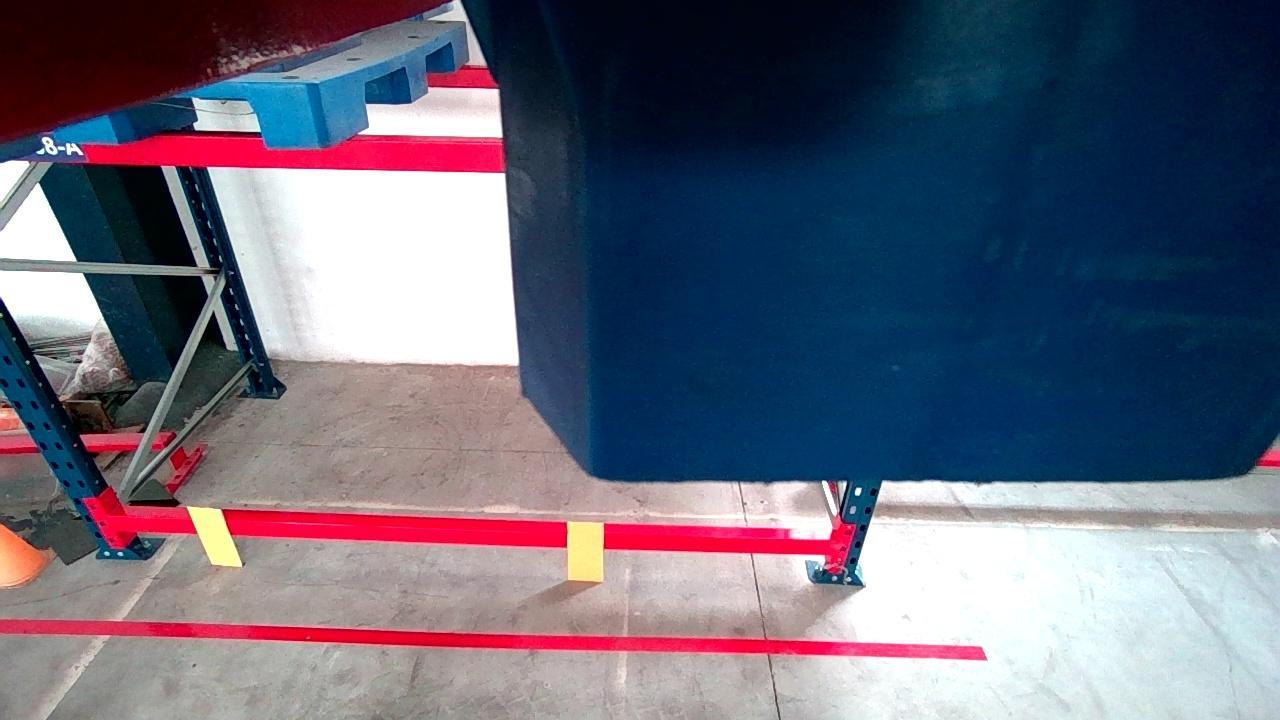h_rack: (108, 516, 830, 554), (30, 135, 505, 172)
orange_strip: (189, 504, 240, 563), (568, 520, 603, 580)
